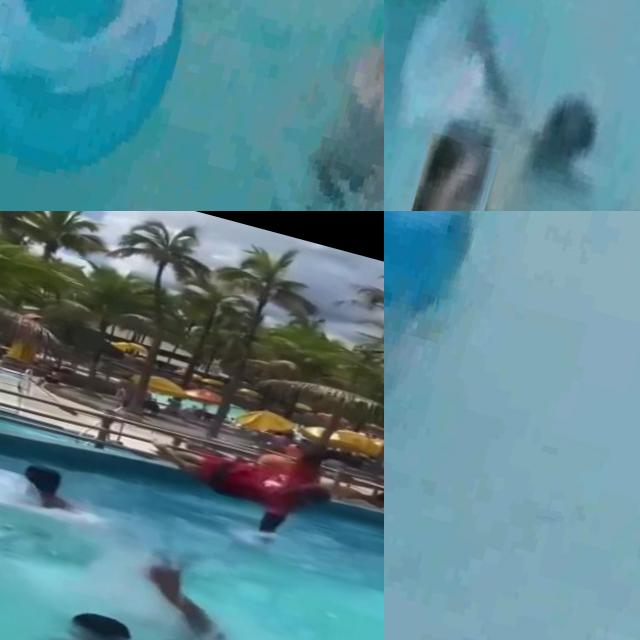drowning: (446, 0, 640, 176), (384, 211, 525, 406), (12, 530, 260, 640), (258, 0, 384, 211)
swimming: (0, 443, 139, 535), (392, 132, 503, 211)
